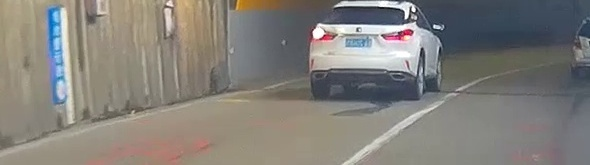L_light: (311, 27, 338, 42)
R_light: (381, 28, 415, 41)
T_light: (360, 5, 376, 8)
day-left: (309, 0, 418, 99)
